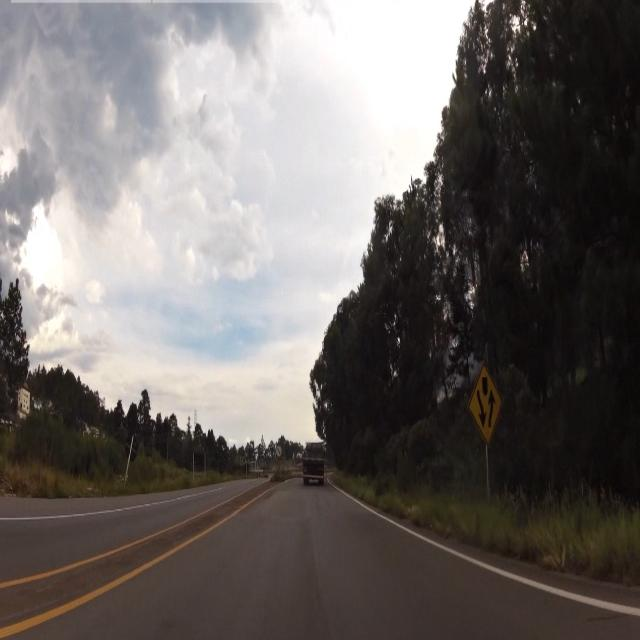A-42a: (470, 363, 504, 441)
